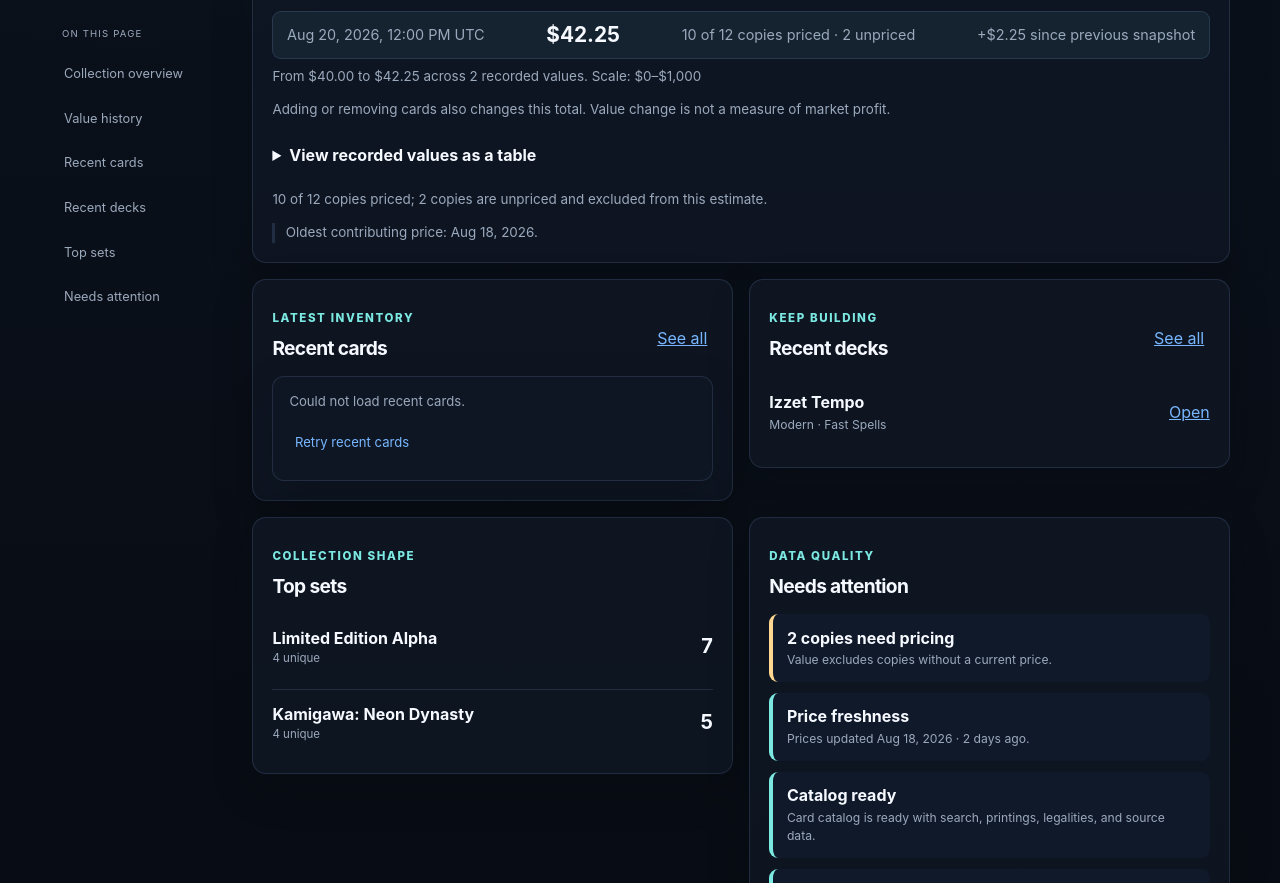
it: keeps healthy widgets visible and retries only a failed recent-cards widget
This screenshot has width=1280, height=883.
(page scrolled)
Expected: the heading "Izzet Tempo" is shown, x1=769 y1=392 x2=864 y2=412
Expected: the message named "recent cards unavailable" shows "Could not load recent cards", x1=289 y1=393 x2=465 y2=409
Click the button "Retry recent cards". click: point(352, 442)
box: x1=289 y1=420 x2=415 y2=464
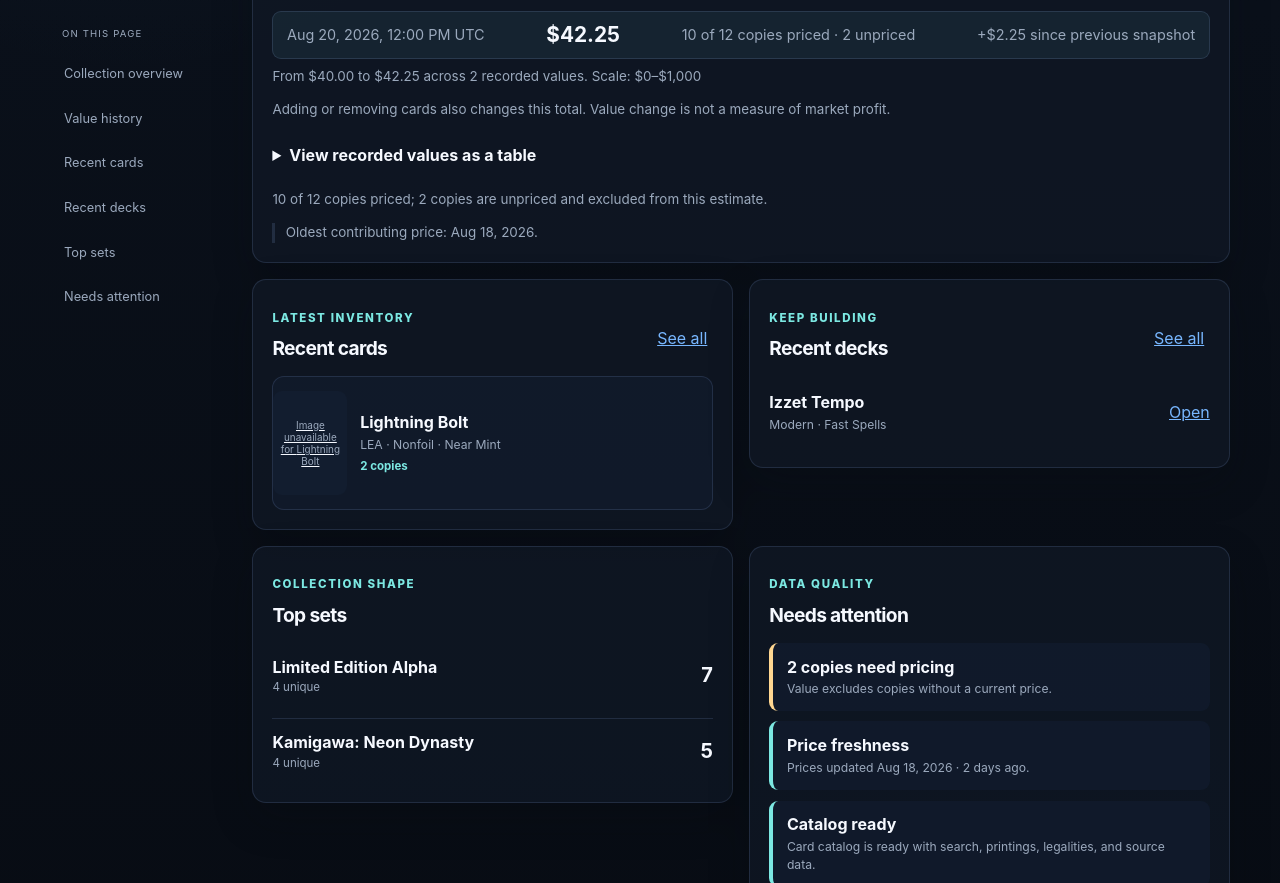
Result: the heading "Lightning Bolt" is shown at x1=360 y1=412 x2=468 y2=432
